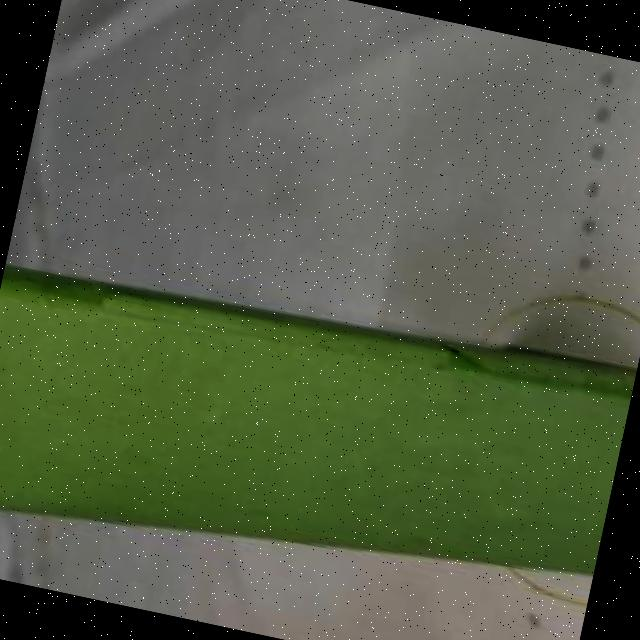greenbox: (0, 227, 638, 640)
